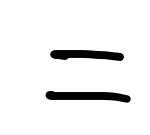eqv: (46, 50, 131, 104)
